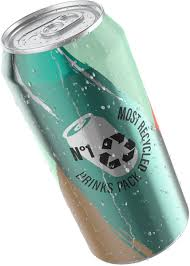can: (1, 1, 188, 266)
